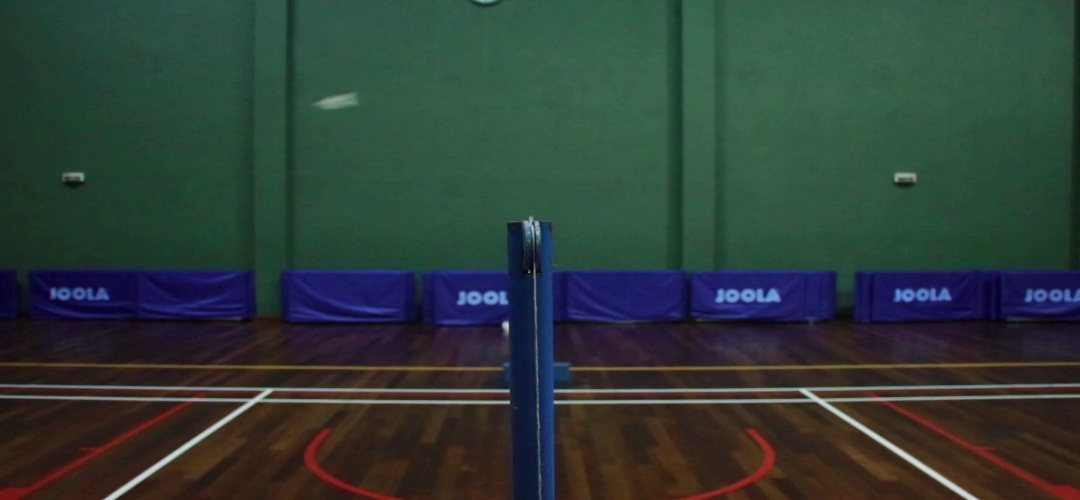c1: (240, 393, 273, 411)
c2: (797, 393, 846, 408)
net_level: (505, 221, 554, 289)
shuttle: (313, 92, 363, 113)
